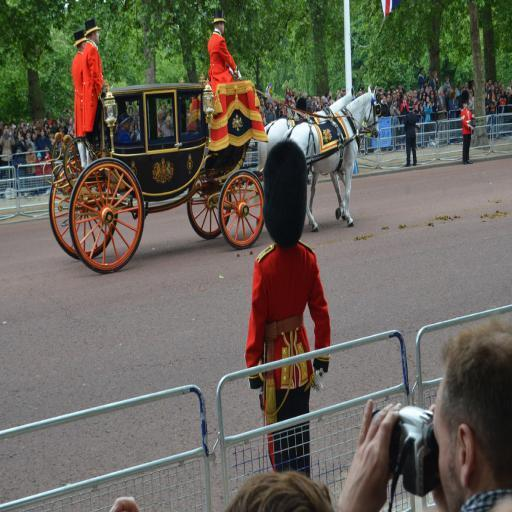horse: (282, 84, 380, 236), (258, 87, 358, 218)
